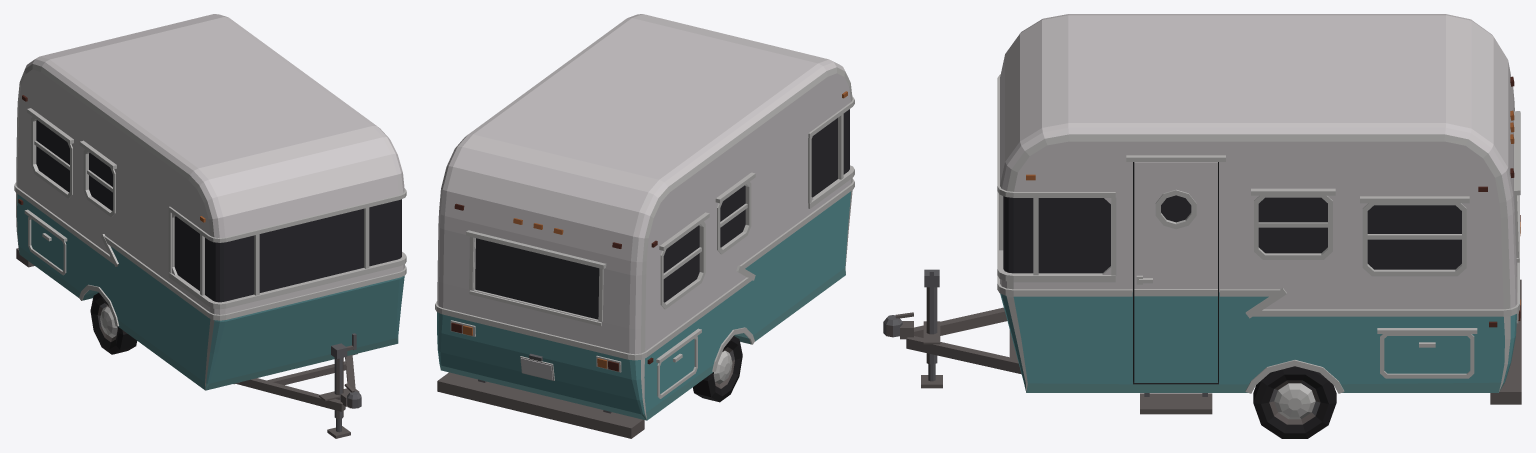
File: camper-trailer-b2f706.glb
3 views of the same model, side by side, from view 1: azimuth 30°, elevation 25°; view 2: azimuth 150°, elevation 25°; view 3: azimuth 270°, elevation 25° (orthographic). The views are drawn at different scales.
Visible parts, largest first — view 1: body, wheel-r-mesh; view 2: body, wheel-r-mesh; view 3: body, wheel-l-mesh.
Part boxes in pixels (x1,y1,x2,y2): body: [14, 14, 406, 438]; wheel-r-mesh: [90, 293, 136, 354]; body: [435, 14, 854, 438]; wheel-r-mesh: [693, 336, 742, 402]; body: [883, 14, 1521, 414]; wheel-l-mesh: [1253, 366, 1336, 438].
Size of the model in its own units: 2.12 by 2.5 by 4.6.
